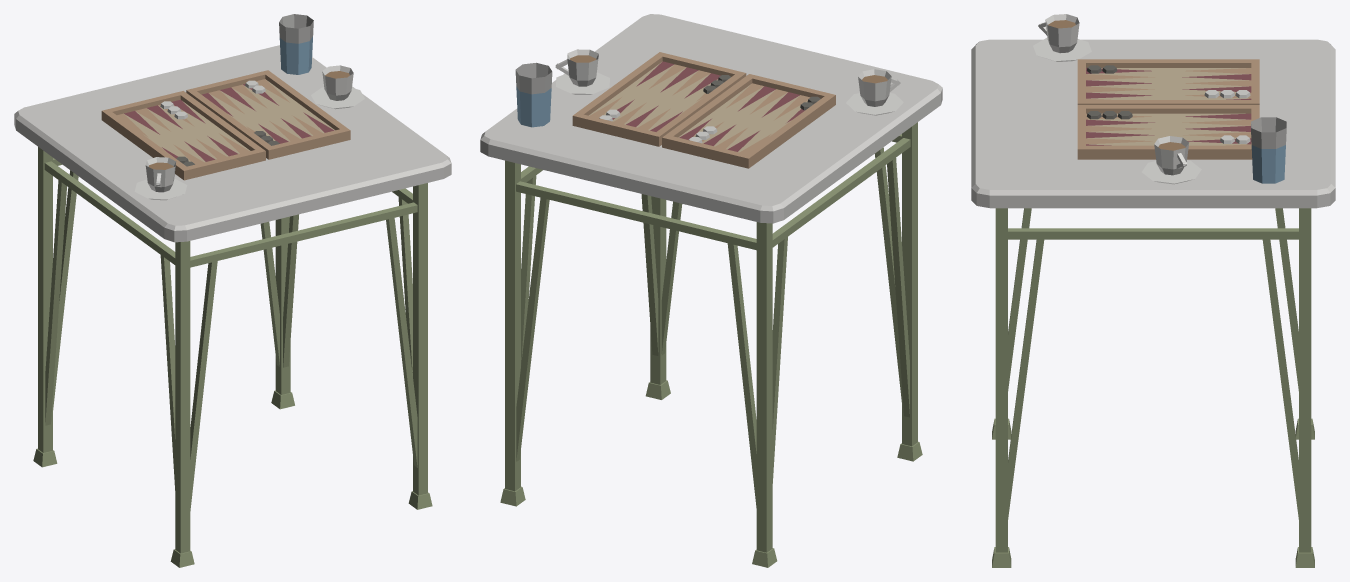
The model's file is kafe.glb.
The picture shows the model from 3 angles, left to right: view 1: azimuth 30°, elevation 25°; view 2: azimuth 150°, elevation 25°; view 3: azimuth 270°, elevation 25°; orthographic projection. The views are drawn at different scales.
Visible parts, largest first — view 1: kafe; view 2: kafe; view 3: kafe.
Boxes of the visible parts, <box> form: kafe: <box>14,14,451,567</box>; kafe: <box>480,14,942,567</box>; kafe: <box>971,14,1335,567</box>.
Size of the model in its own units: 0.6 by 0.795 by 0.6.
